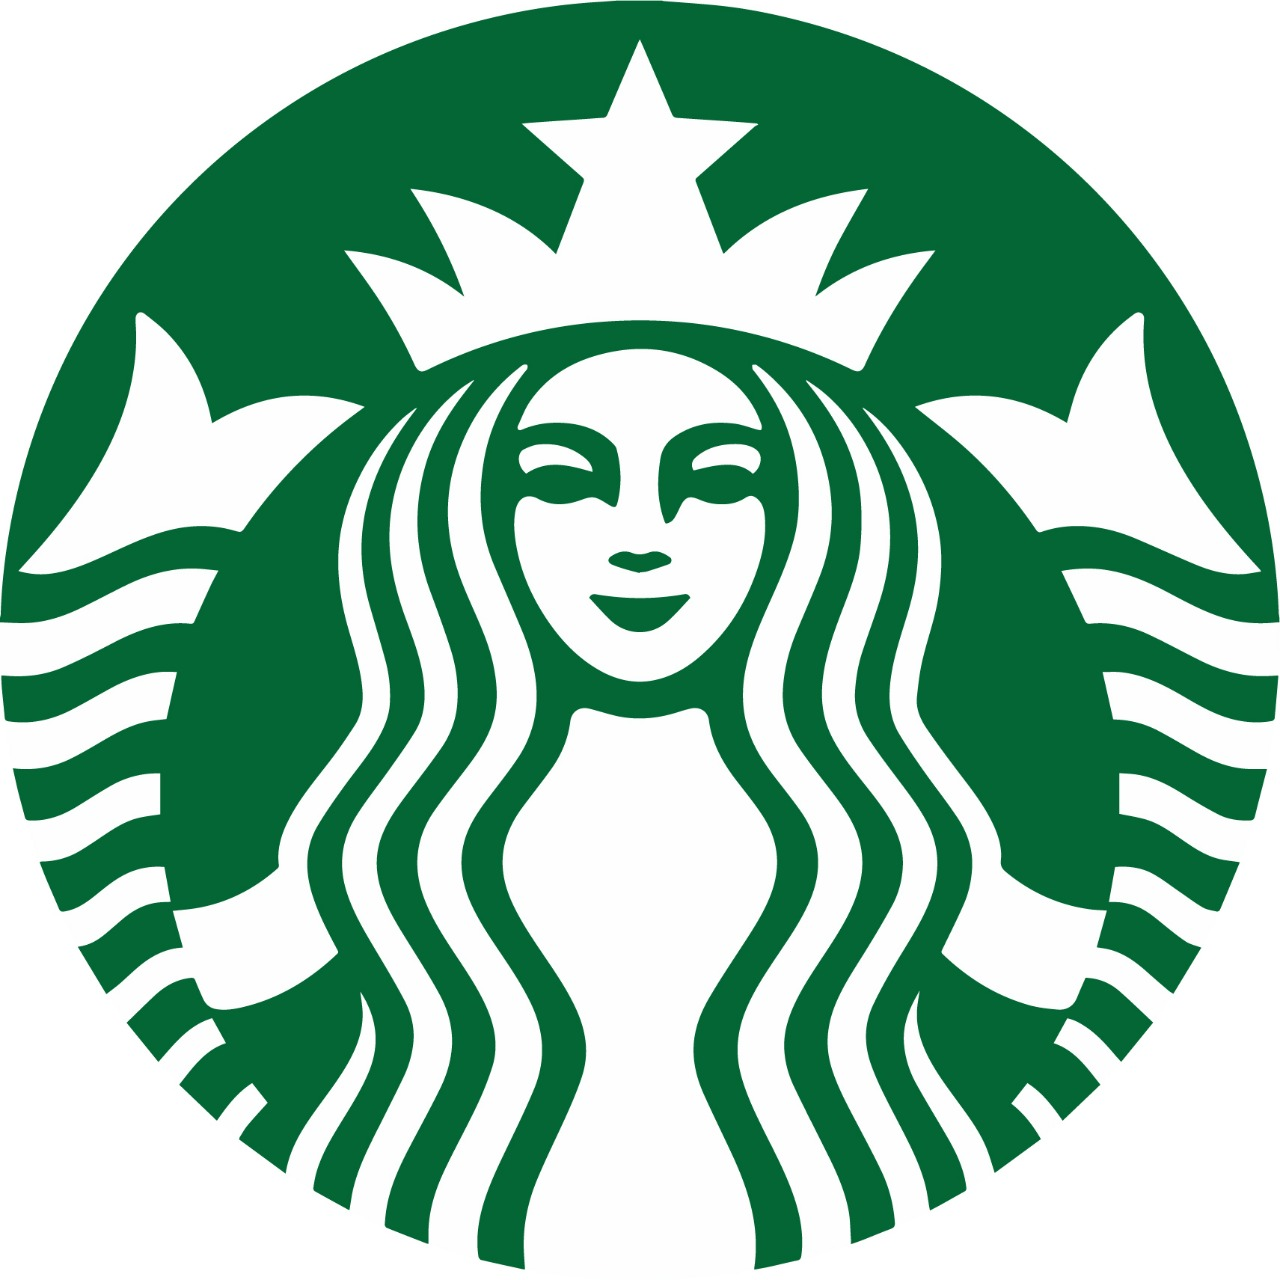starbucks Fake: (1, 4, 1280, 1280)
